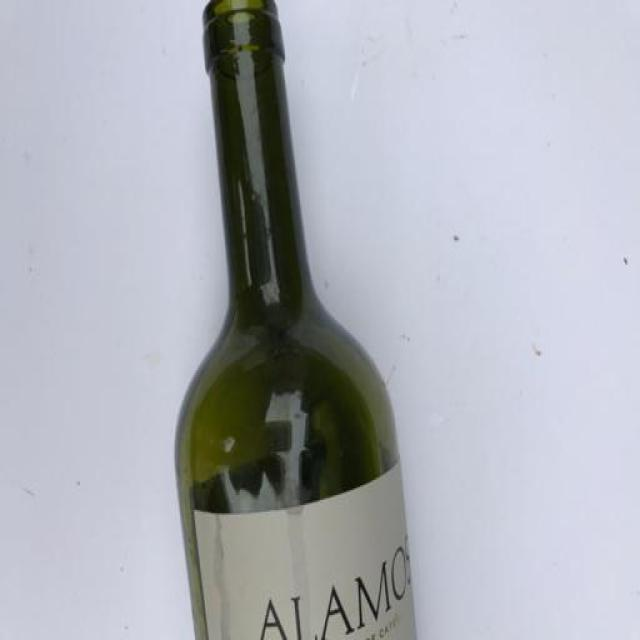glass: (126, 0, 438, 640)
